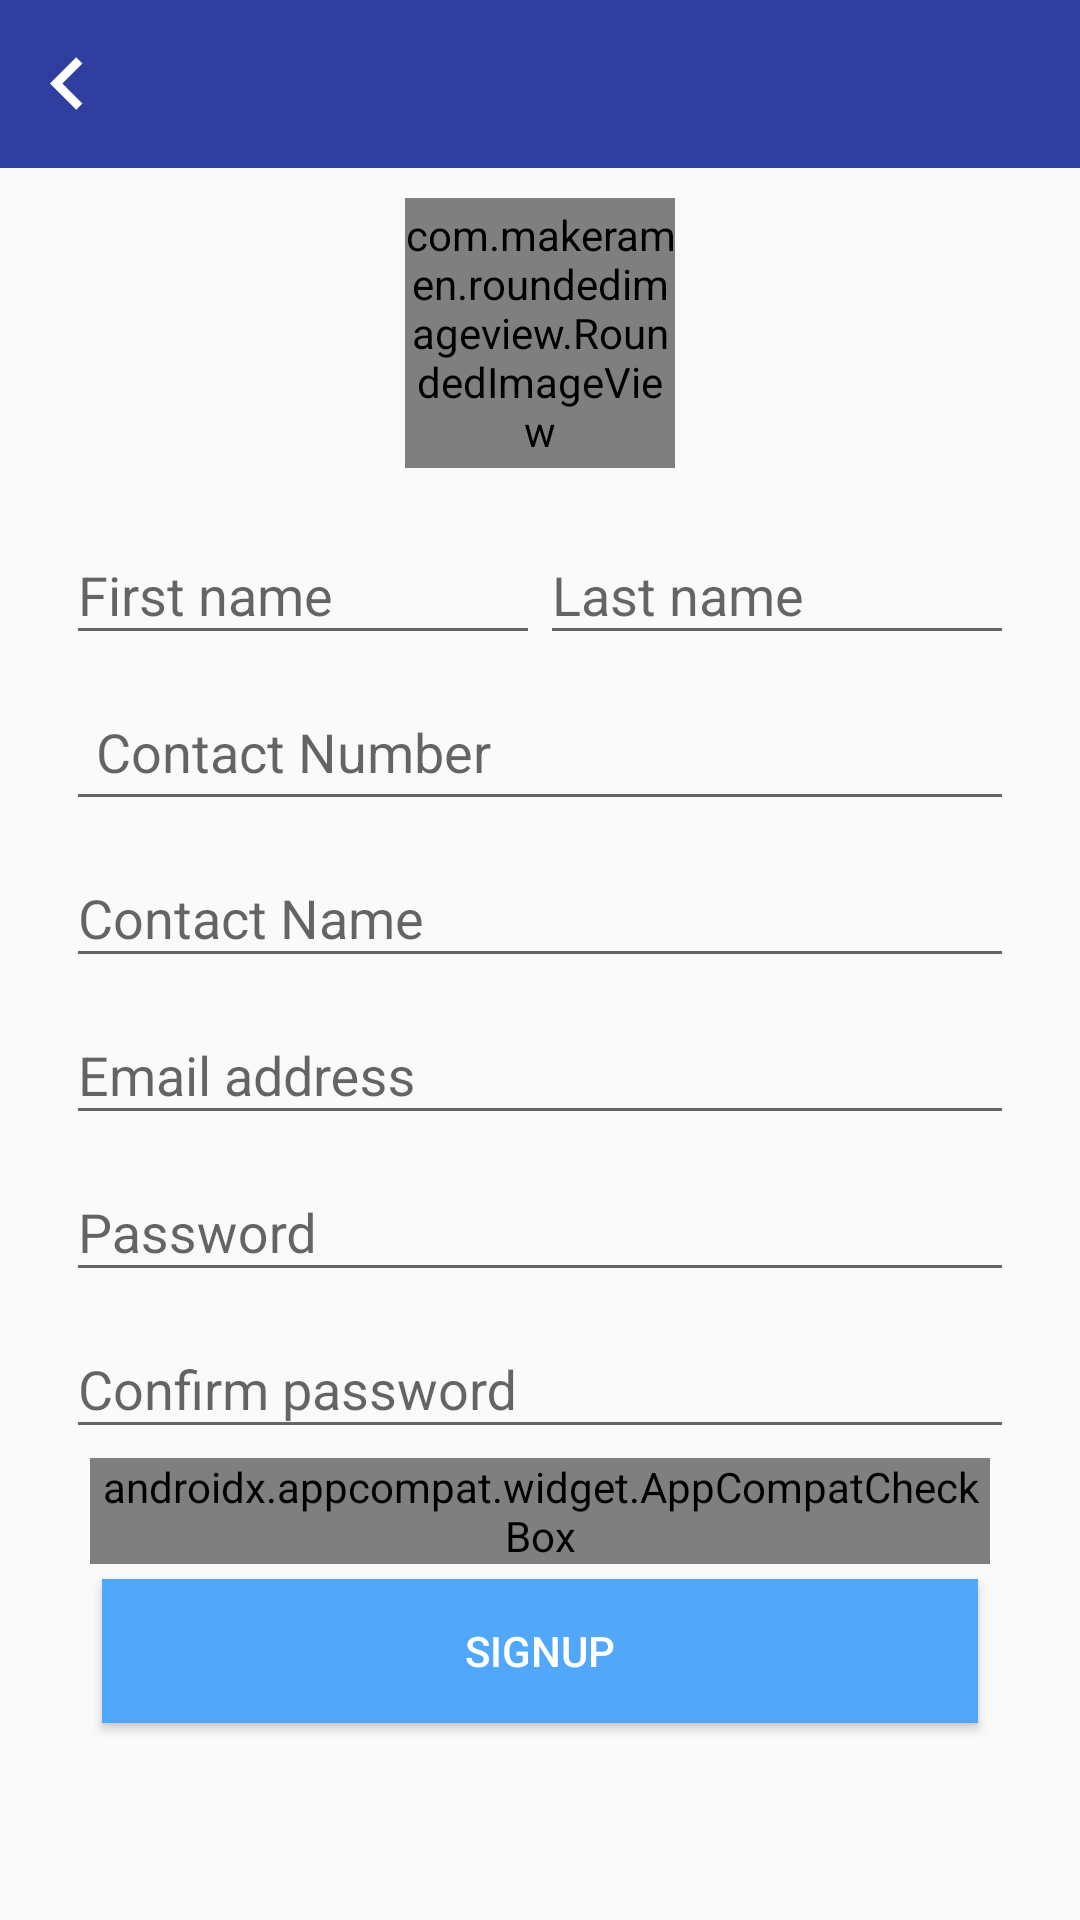

Where to tap for icons on this 1080 x 1920 app screen, as point (x, y):
chevron left: point (66, 83)
